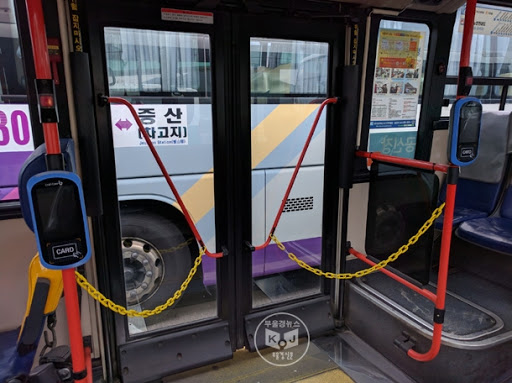exit: (83, 1, 352, 363)
